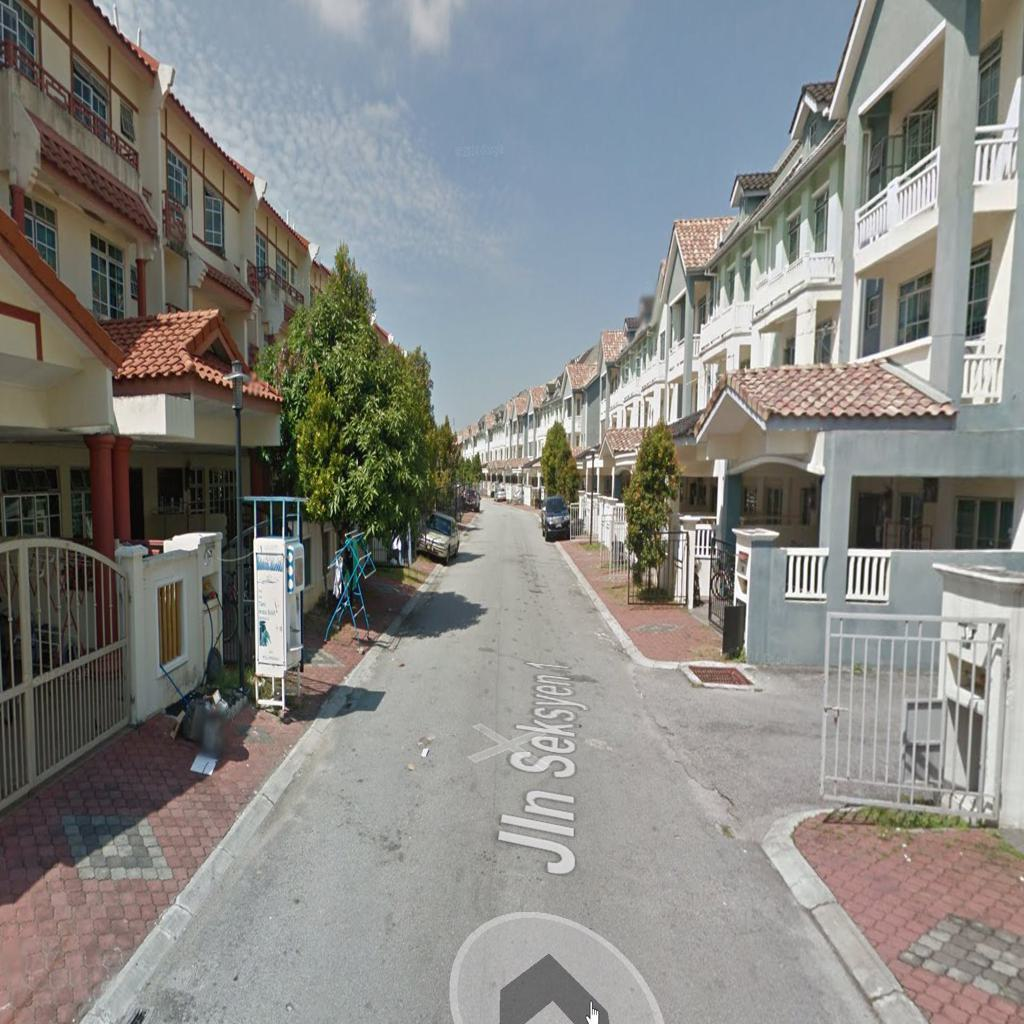Junction: (638, 619, 935, 866)
